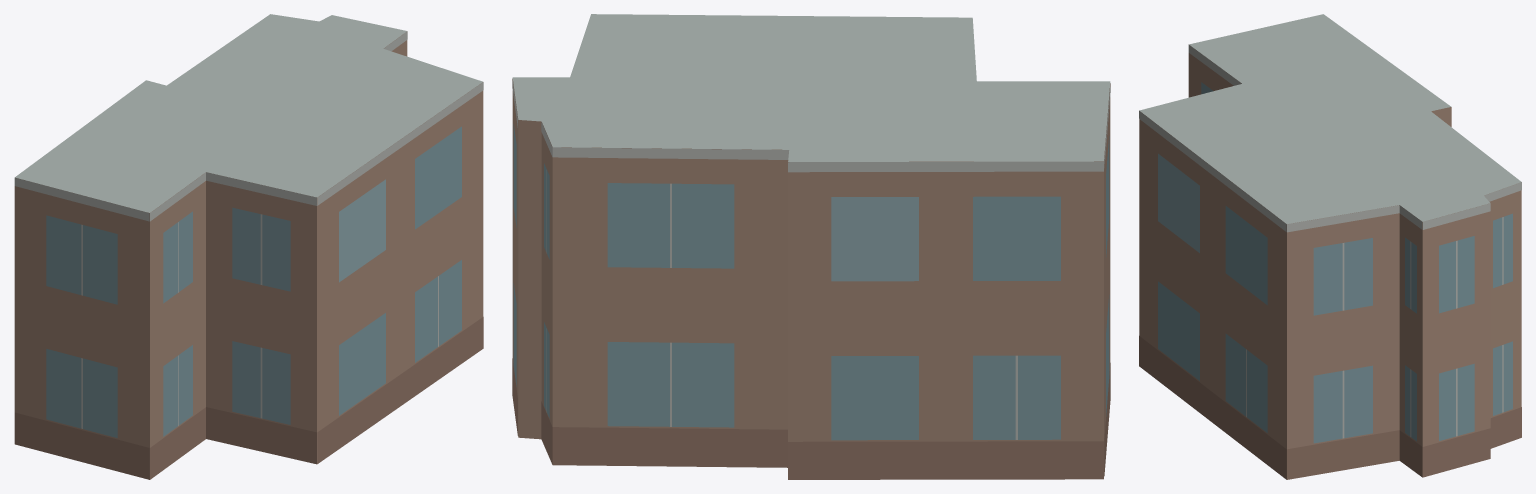
File: survey-upis-32602487.glb
The picture shows the model from 3 angles, left to right: view 1: azimuth 30°, elevation 25°; view 2: azimuth 150°, elevation 25°; view 3: azimuth 270°, elevation 25°; orthographic projection. The views are drawn at different scales.
Visible parts, largest first — view 1: survey-upis-32602487.tmp; view 2: survey-upis-32602487.tmp; view 3: survey-upis-32602487.tmp.
Boxes of the visible parts, x1,y1,x2,y2 form: survey-upis-32602487.tmp: (14, 14, 483, 479); survey-upis-32602487.tmp: (512, 14, 1110, 479); survey-upis-32602487.tmp: (1139, 14, 1521, 479).
Bounding box in the file's own units: 13.41 × 7.6 × 10.32.
